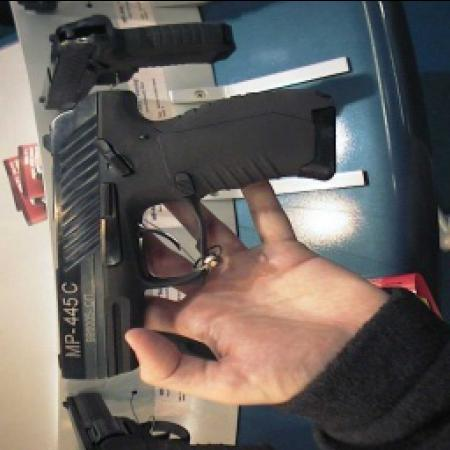Pistol: (44, 89, 342, 383)
